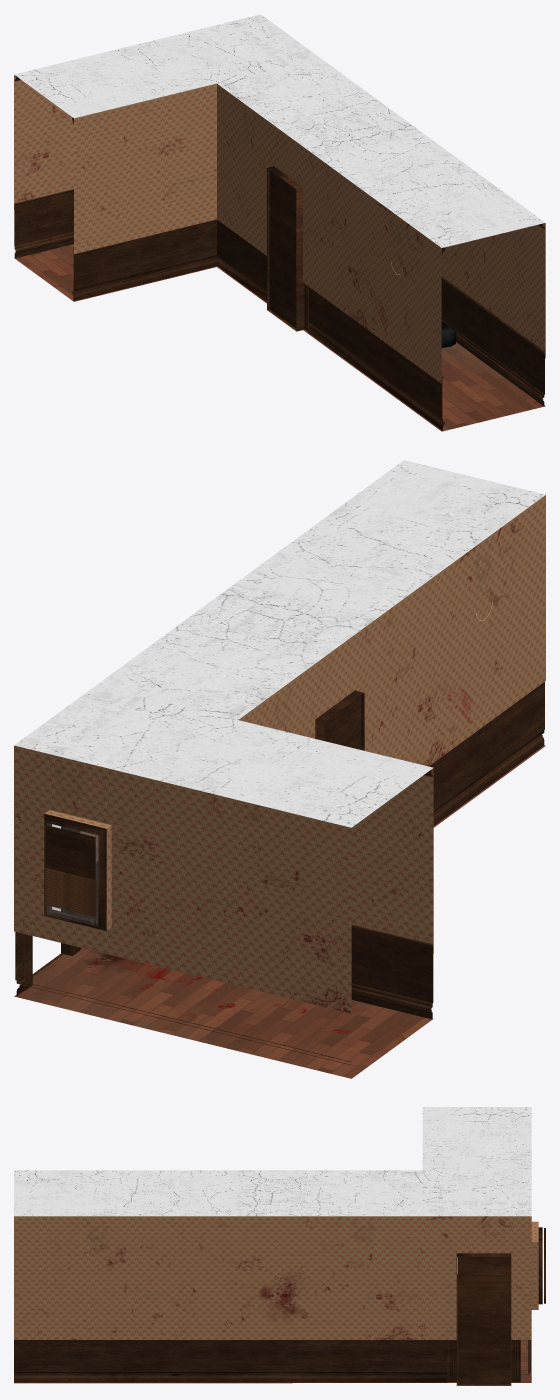
3 renders of one model, top to bottom at view 1: azimuth 30°, elevation 25°; view 2: azimuth 150°, elevation 25°; view 3: azimuth 270°, elevation 25°, orthographic. The views are drawn at different scales.
Parts seen in each view (by area): view 1: murs, murs.001, Tablier_moulures, Sol, Porte_G, BP_G; view 2: murs, murs.001, Sol, Tablier_moulures, Volet, Fenetre, Porte_G, BP_D; view 3: murs, murs.001, Tablier_moulures, P_D, BP_D, Sol, Fenetre.
Part boxes in pixels (left/top/right/bottom): murs: left=14, top=75, right=545, bottom=383; murs.001: left=14, top=14, right=545, bottom=247; Tablier_moulures: left=14, top=76, right=544, bottom=430; Sol: left=15, top=244, right=545, bottom=431; Porte_G: left=267, top=169, right=296, bottom=329; BP_G: left=267, top=165, right=310, bottom=333; murs: left=14, top=495, right=545, bottom=1013; murs.001: left=14, top=460, right=545, bottom=827; Sol: left=14, top=745, right=545, bottom=1078; Tablier_moulures: left=15, top=682, right=544, bottom=1065; Volet: left=44, top=825, right=96, bottom=927; Fenetre: left=44, top=813, right=106, bottom=930; Porte_G: left=324, top=694, right=363, bottom=750; BP_D: left=23, top=826, right=80, bottom=990; murs: left=14, top=1216, right=538, bottom=1339; murs.001: left=14, top=1107, right=531, bottom=1216; Tablier_moulures: left=14, top=1340, right=530, bottom=1382; P_D: left=457, top=1257, right=510, bottom=1385; BP_D: left=447, top=1253, right=520, bottom=1382; Sol: left=14, top=1274, right=531, bottom=1385; Fenetre: left=538, top=1227, right=542, bottom=1304.
Bounding box in the file's own units: 3.9 × 2.78 × 7.81.
10 materials, 10 textured.
